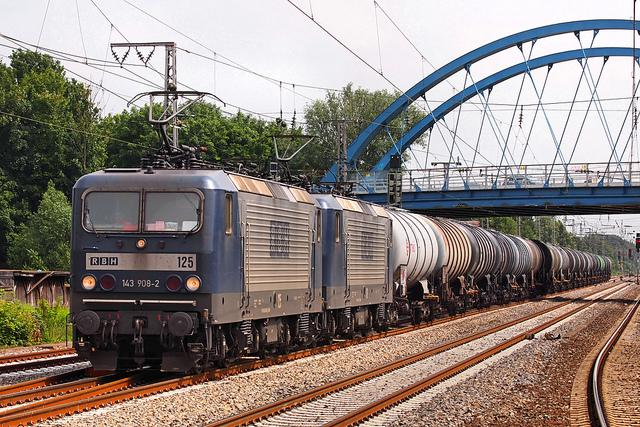Train: (70, 165, 618, 388)
